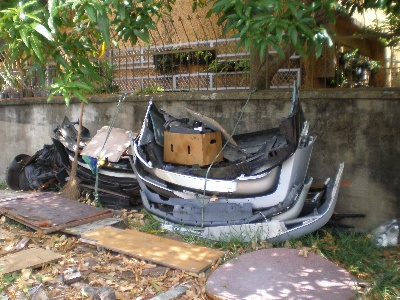box: (163, 129, 223, 166)
